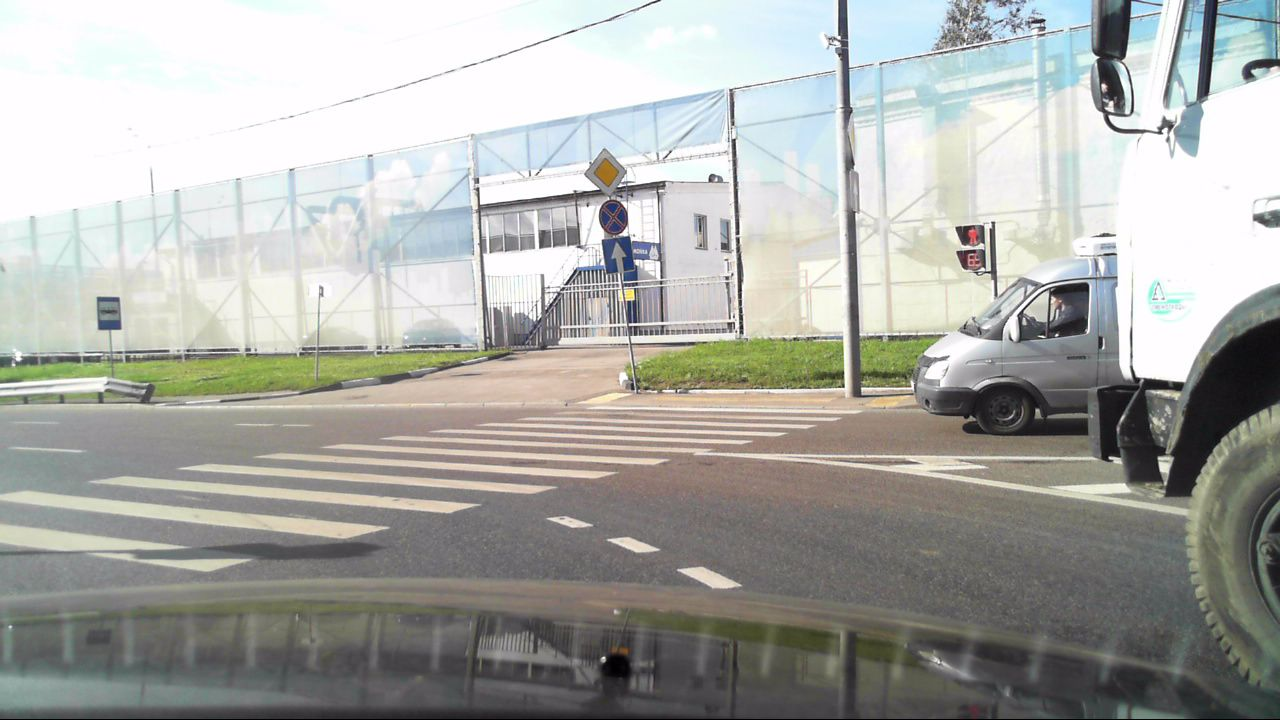No Parking: (595, 200, 631, 236)
